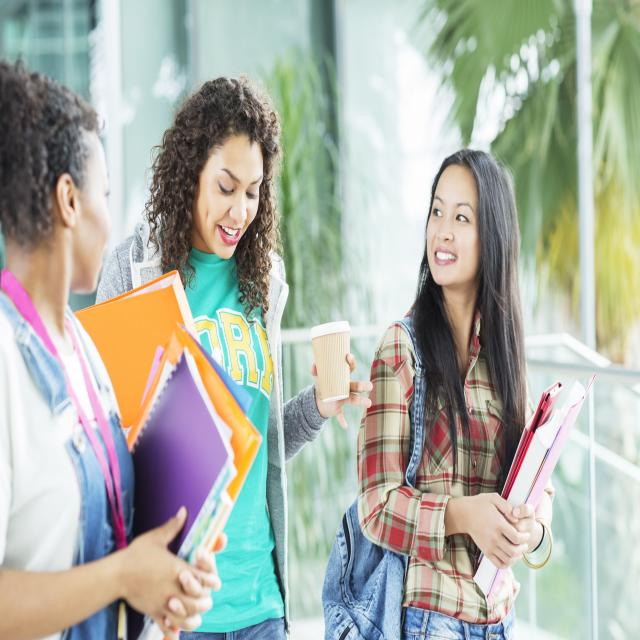body: (94, 76, 374, 640), (314, 128, 594, 640), (0, 39, 232, 640)
